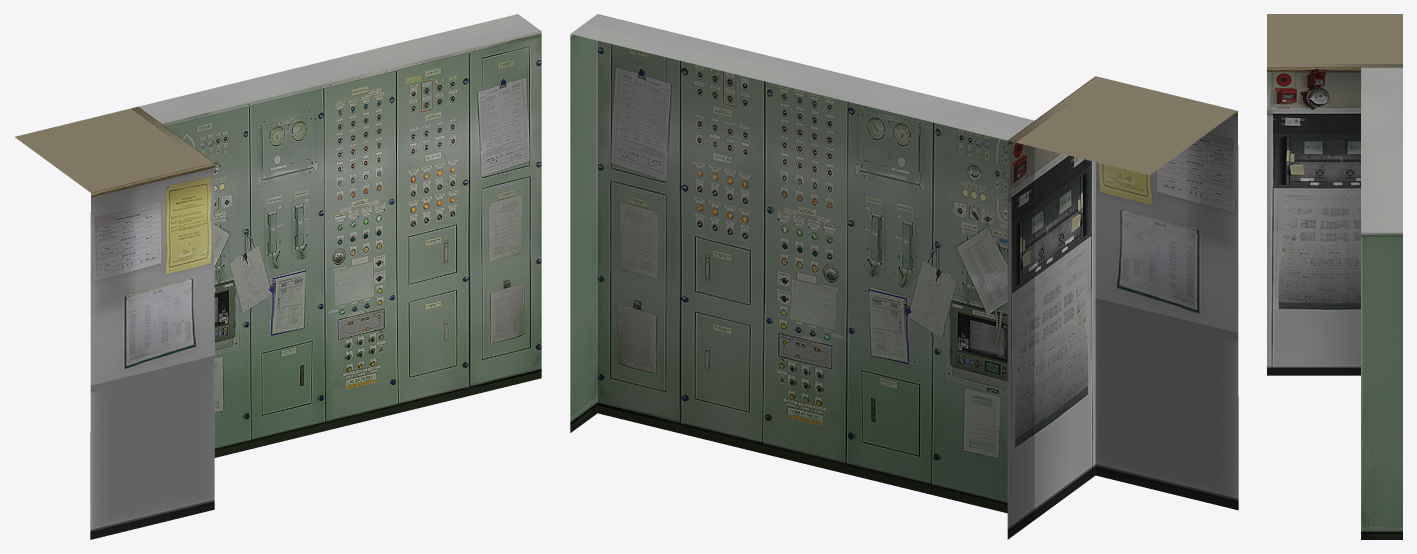
The model's file is Machine_big06.FBX.
The picture shows the model from 3 angles, left to right: view 1: azimuth 30°, elevation 25°; view 2: azimuth 150°, elevation 25°; view 3: azimuth 270°, elevation 25°; orthographic projection. The views are drawn at different scales.
Visible parts, largest first — view 1: Machine_big06; view 2: Machine_big06; view 3: Machine_big06.
Part boxes in pixels (bbox=[...]): Machine_big06: bbox=[15, 14, 541, 539]; Machine_big06: bbox=[570, 14, 1238, 539]; Machine_big06: bbox=[1267, 14, 1402, 539].
Bounding box in the file's own units: 3.21 × 2.11 × 0.8436.
